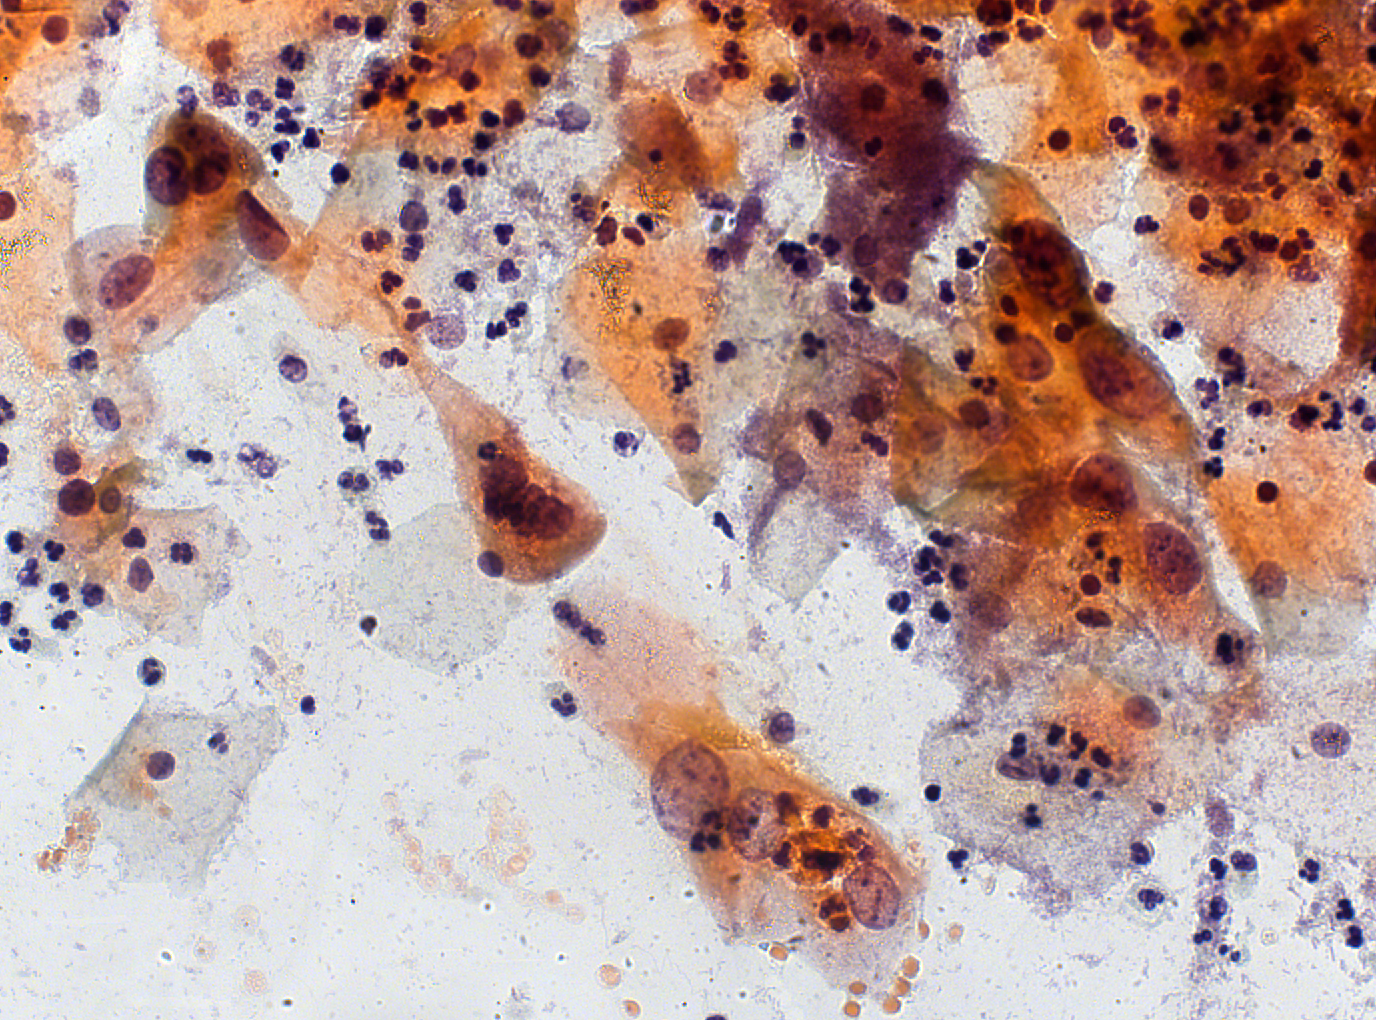Abn: (1008, 216, 1096, 326), (1079, 329, 1173, 421), (650, 740, 726, 847), (728, 782, 792, 869), (1137, 521, 1203, 602), (1065, 452, 1140, 521), (233, 189, 294, 268), (839, 862, 901, 936), (96, 252, 159, 315), (477, 452, 526, 522), (140, 146, 186, 207), (171, 115, 226, 162), (530, 492, 581, 540), (506, 482, 547, 540), (185, 155, 237, 197)
